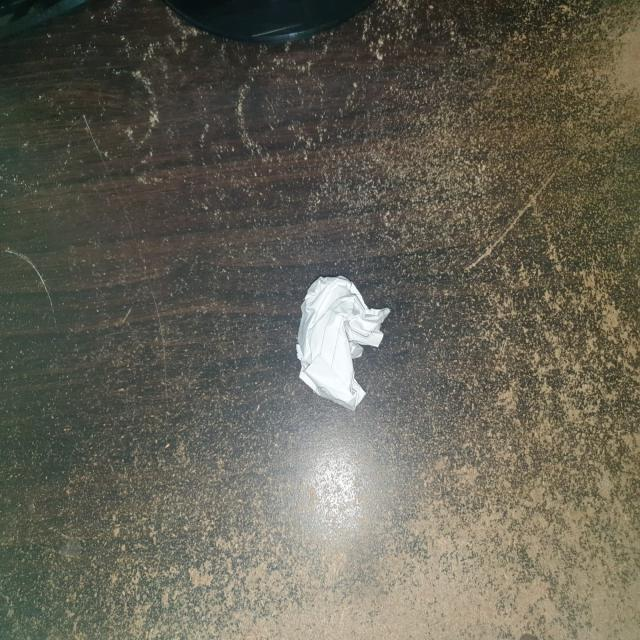Paper: (297, 276, 396, 407)
